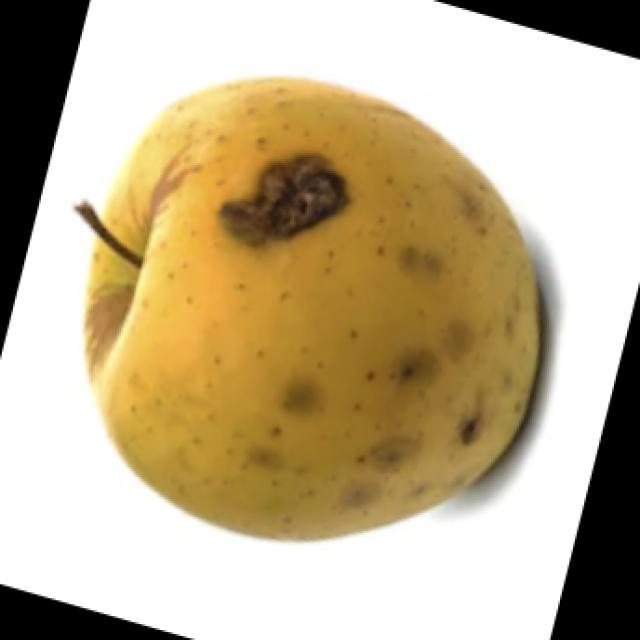Rotten: (98, 71, 532, 542)
